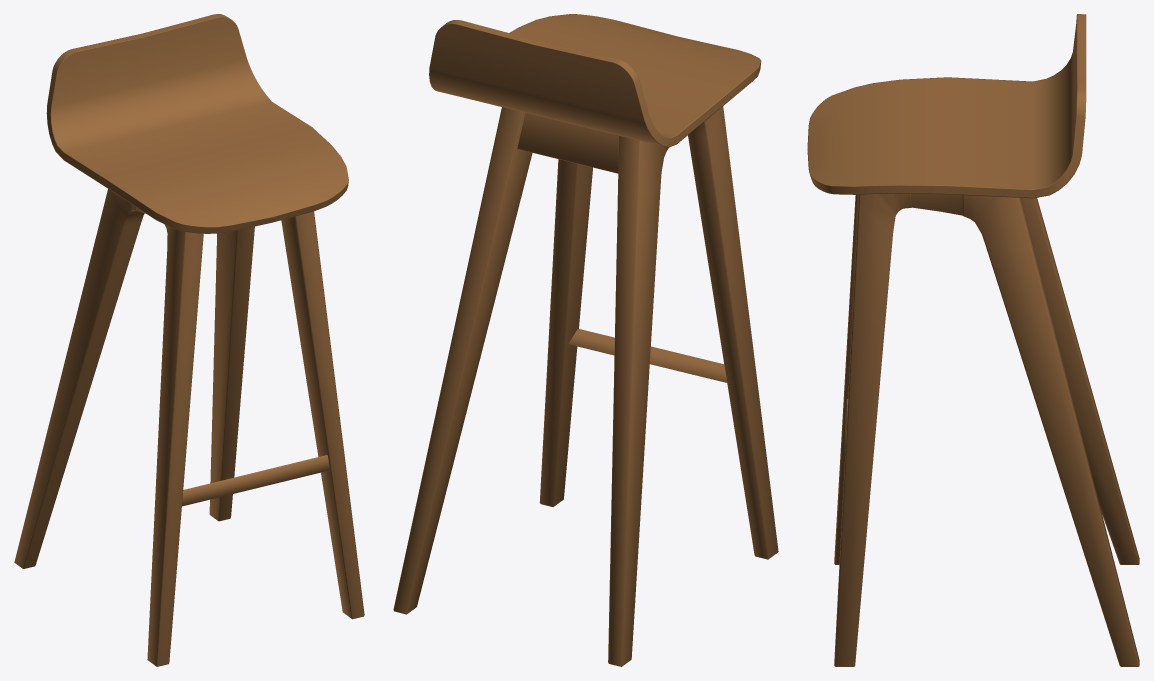
The model's file is Bar_Chair.glb.
3 views of the same model, side by side, from view 1: azimuth 30°, elevation 25°; view 2: azimuth 150°, elevation 25°; view 3: azimuth 270°, elevation 25° (orthographic). The views are drawn at different scales.
Visible parts, largest first — view 1: huitugou_2062_892; view 2: huitugou_2062_892; view 3: huitugou_2062_892.
Part boxes in pixels (x1,y1,x2,y2): huitugou_2062_892: [14, 14, 364, 666]; huitugou_2062_892: [393, 14, 778, 666]; huitugou_2062_892: [807, 14, 1139, 666].
Size of the model in its own units: 0.3872 by 0.9292 by 0.4993.
